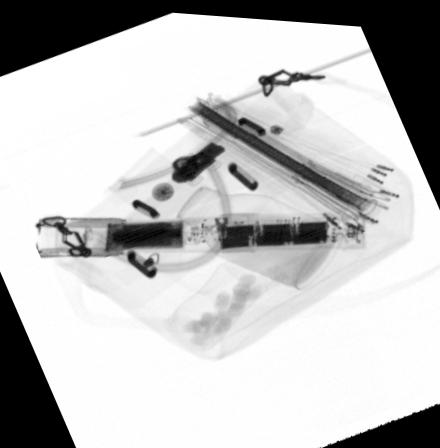Baton: (32, 204, 367, 258)
